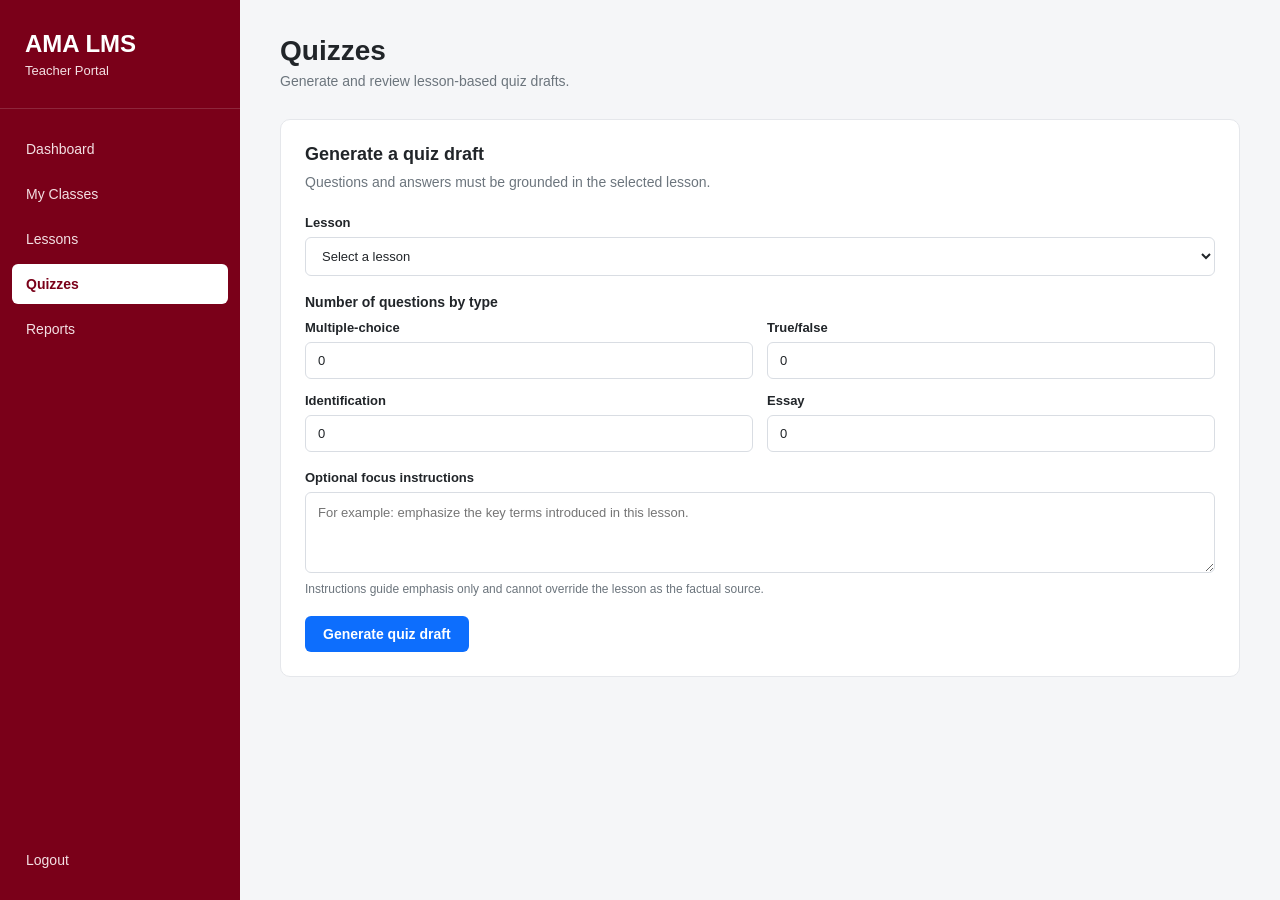
teacher quiz review › uses the authenticated teacher and the lesson generation endpoint
Select "Cell Energy — ATP (draft)" in the dropdown labelled "Lesson": (760, 256) [305, 237, 1215, 276]
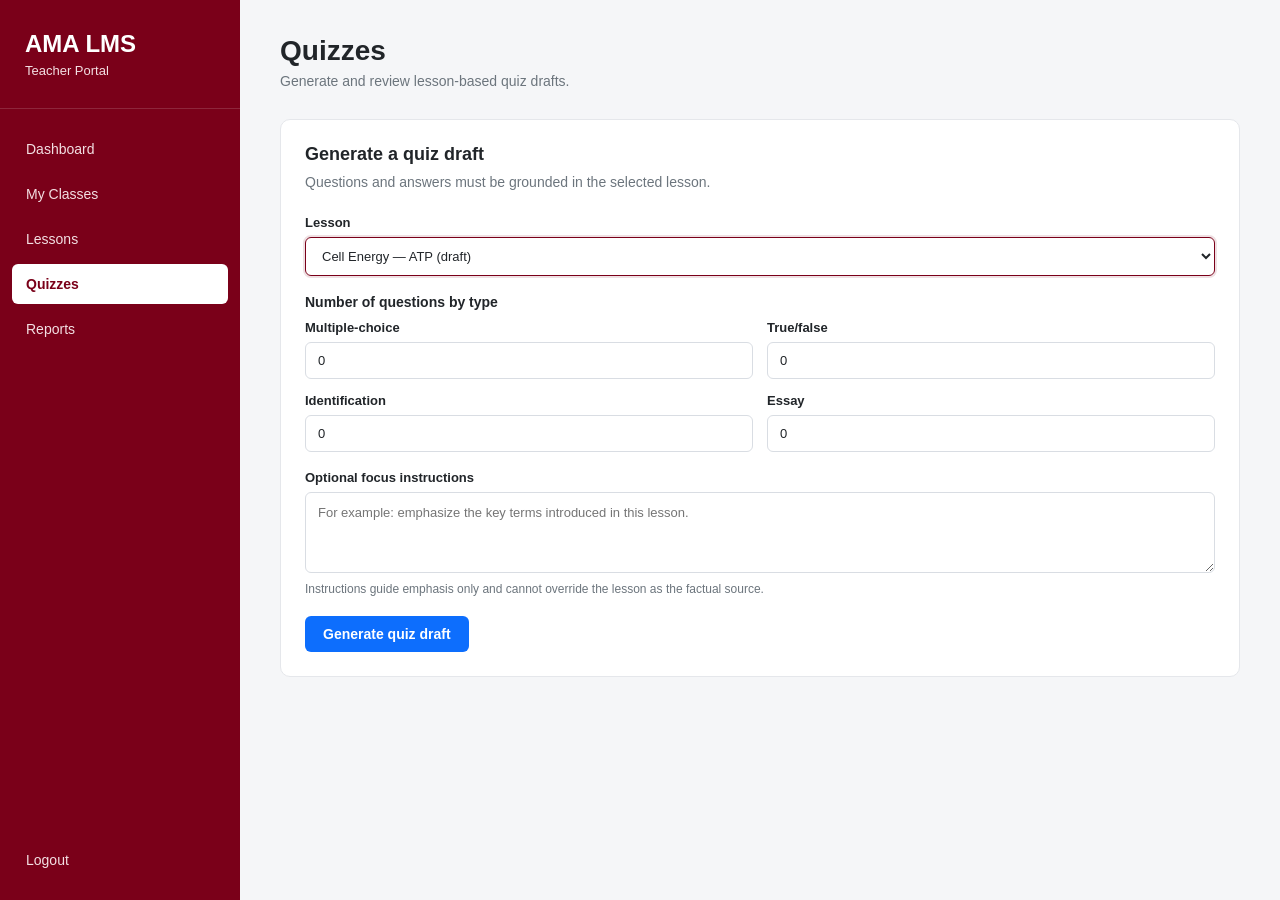
Replace the text in the number field named "Multiple-choice count" with "1": (529, 360) [305, 342, 753, 379]
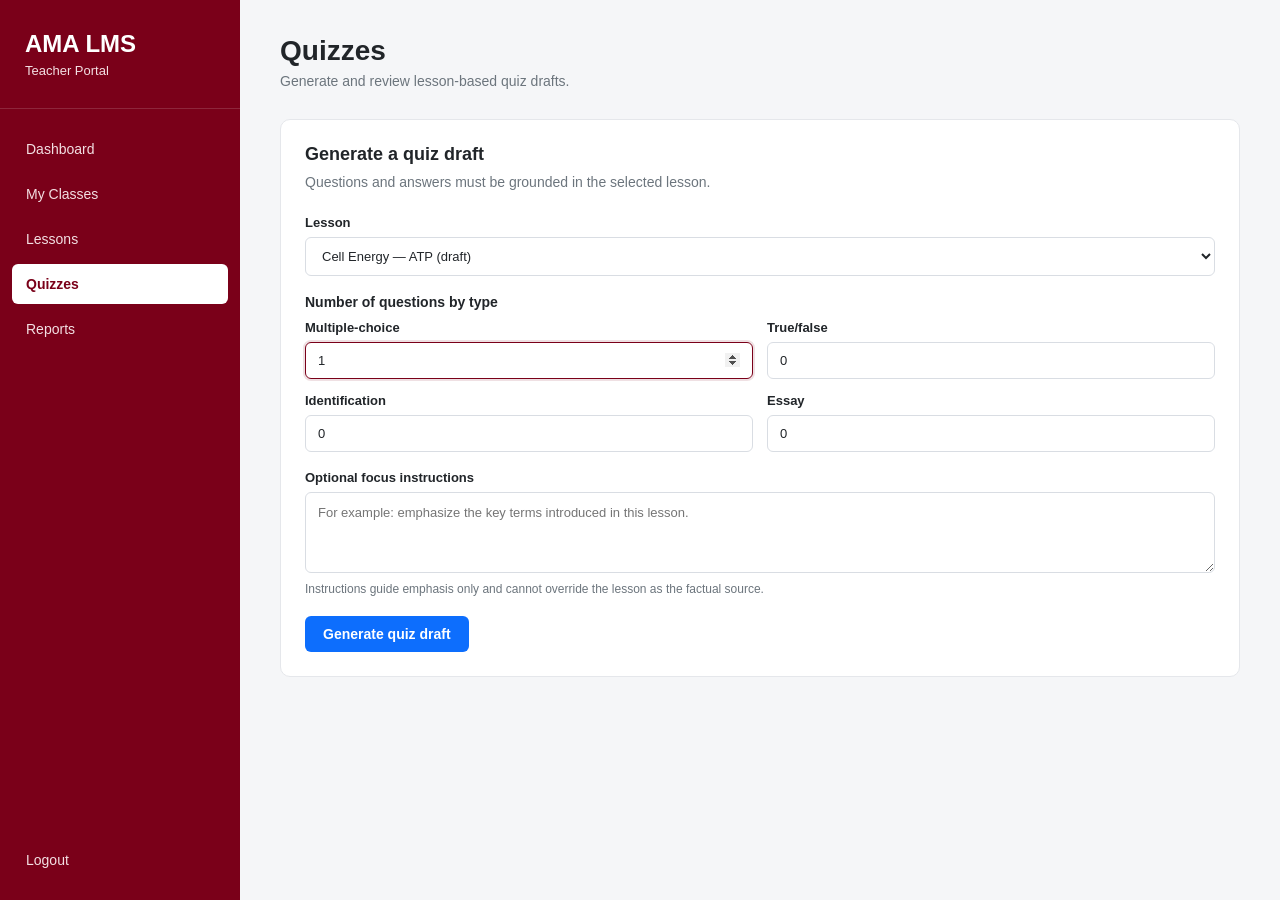
Click the button "Generate quiz draft": (387, 634) [305, 616, 469, 652]
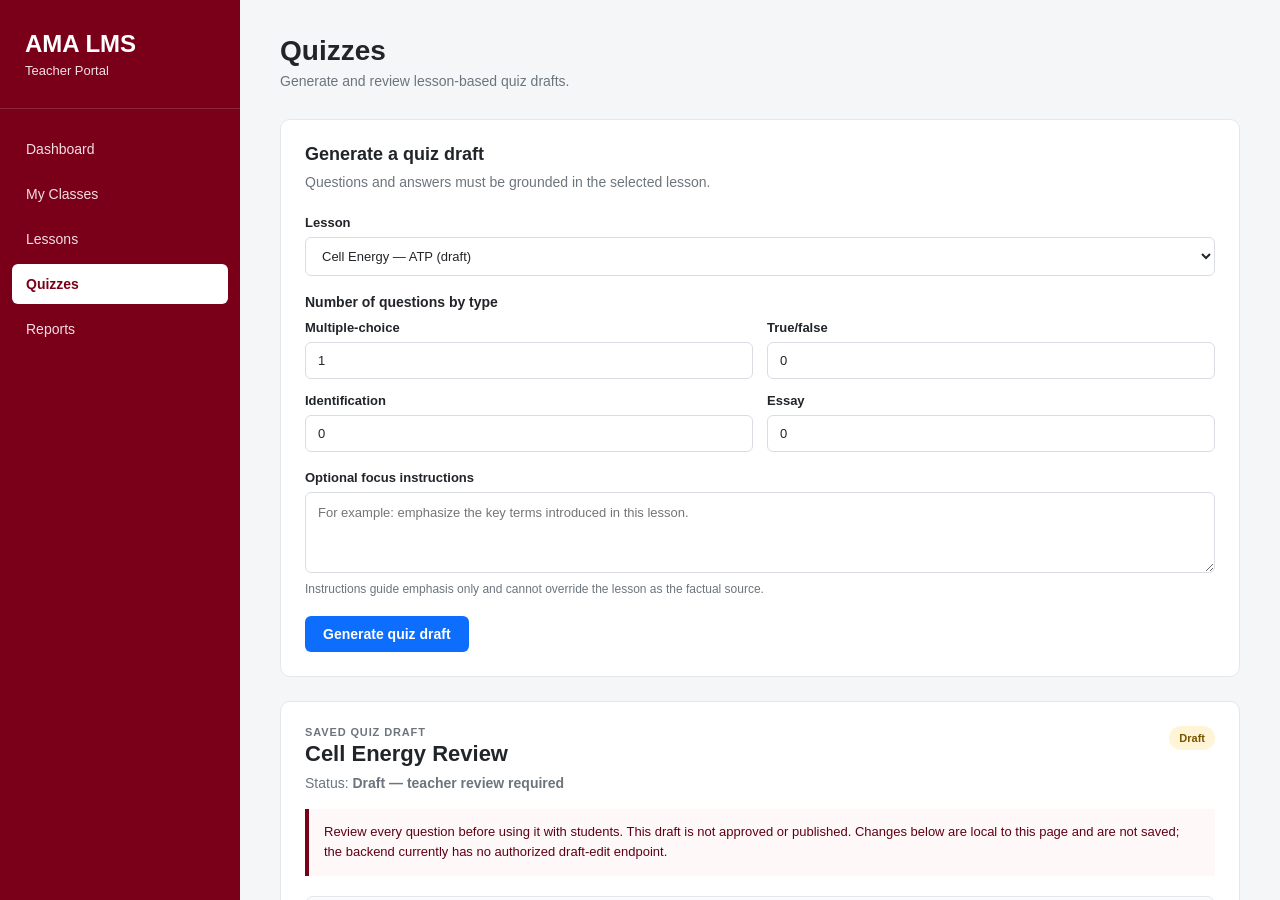
Expected: the heading "Cell Energy Review" is shown, [305, 740, 508, 766]
